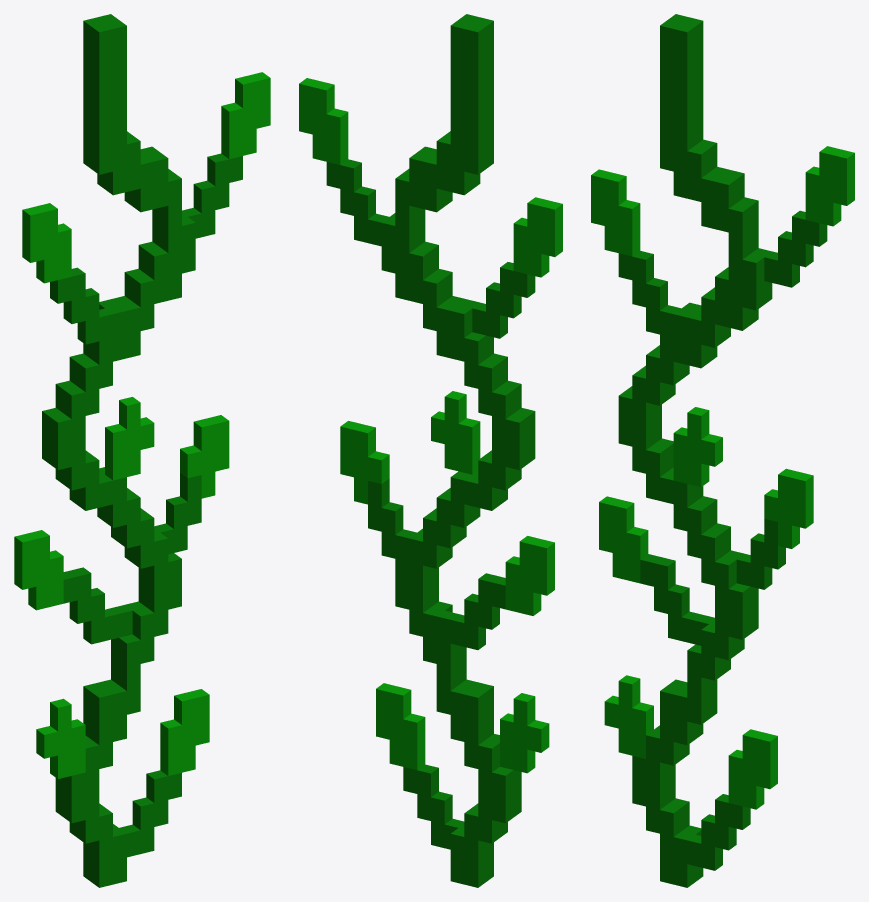
File: vines_unity.fbx
3 renders of one model, left to right at view 1: azimuth 30°, elevation 25°; view 2: azimuth 150°, elevation 25°; view 3: azimuth 330°, elevation 25°, orthographic.
Parts seen in each view (by area): view 1: vines; view 2: vines; view 3: vines.
Part boxes in pixels (bbox=[...]): vines: bbox=[14, 14, 270, 887]; vines: bbox=[299, 14, 562, 887]; vines: bbox=[591, 14, 854, 887].
Size of the model in its own units: 138 by 454 by 15.31.
